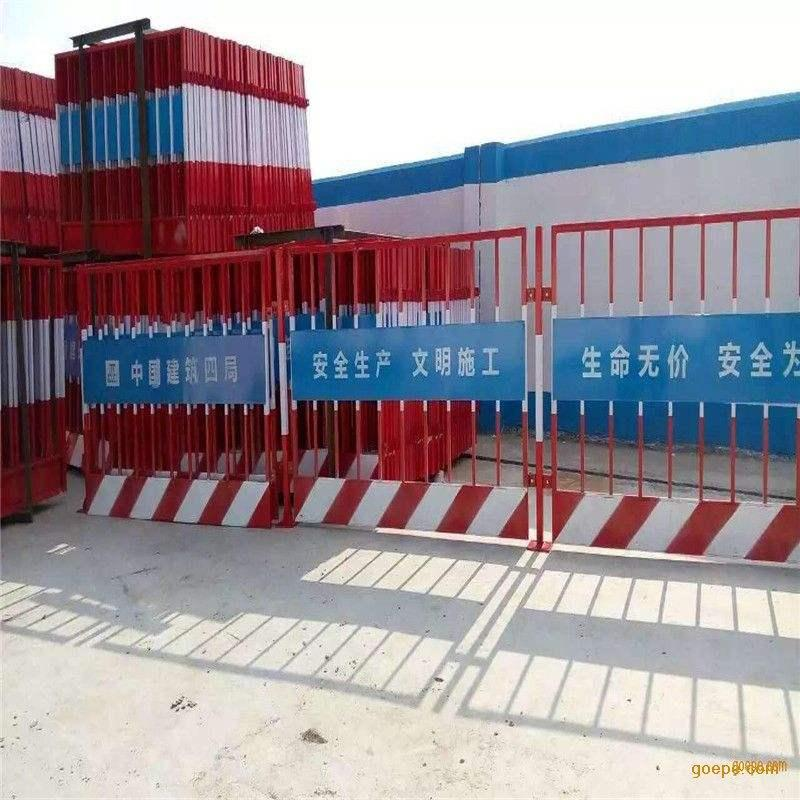sign: (62, 205, 800, 549)
